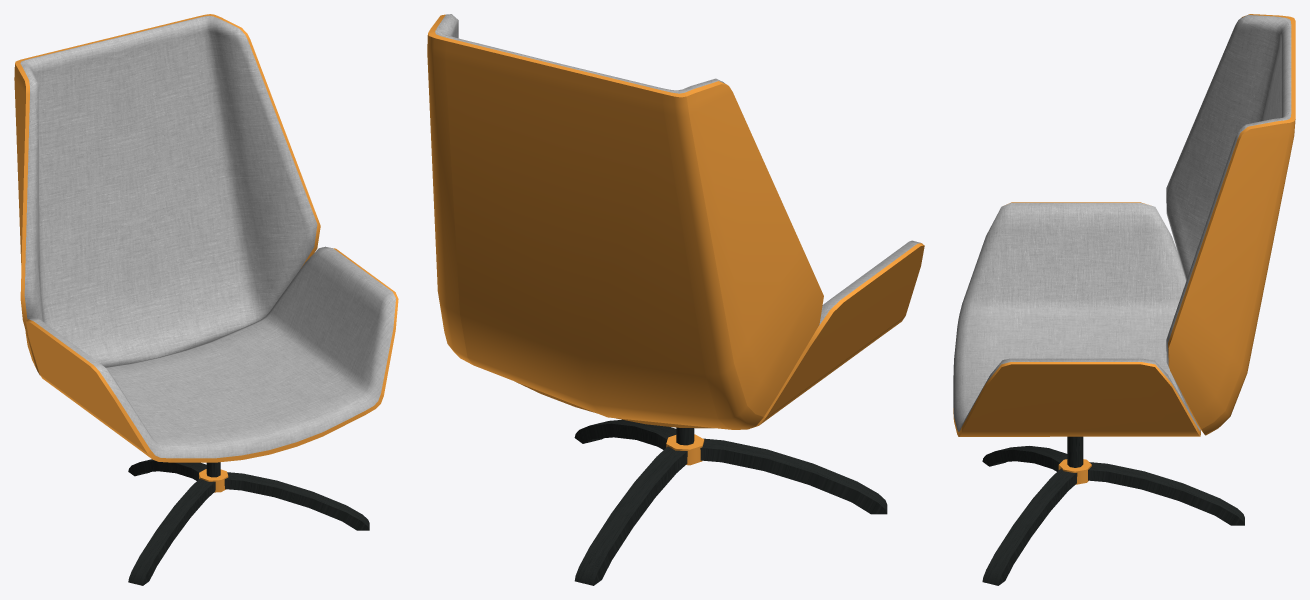
The model's file is chair_1_2.glb.
The picture shows the model from 3 angles, left to right: view 1: azimuth 30°, elevation 25°; view 2: azimuth 150°, elevation 25°; view 3: azimuth 270°, elevation 25°; orthographic projection. The views are drawn at different scales.
Visible parts, largest first — view 1: chair_1_2; view 2: chair_1_2; view 3: chair_1_2.
Boxes of the visible parts, left/top/right/bottom form: chair_1_2: left=14, top=14, right=398, bottom=585; chair_1_2: left=427, top=14, right=924, bottom=585; chair_1_2: left=953, top=14, right=1295, bottom=585.
Size of what is drawn, in the model's own units: 1.17 by 1.52 by 1.04.
3 materials, 3 textured.
